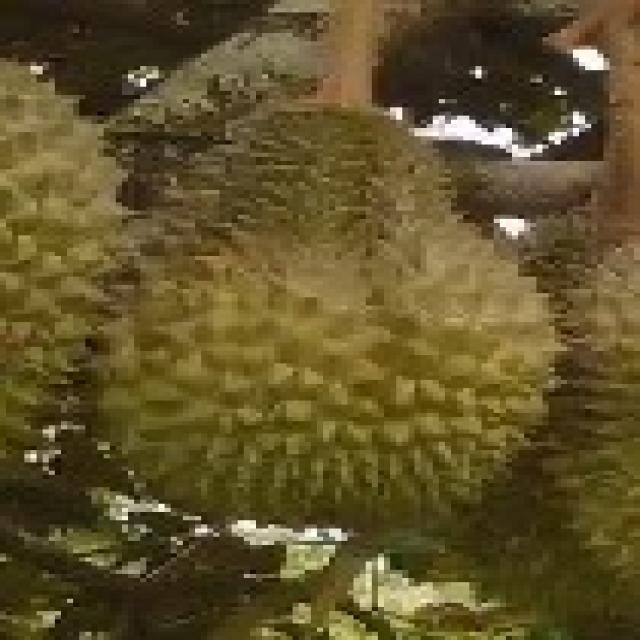immature: (105, 96, 561, 518)
